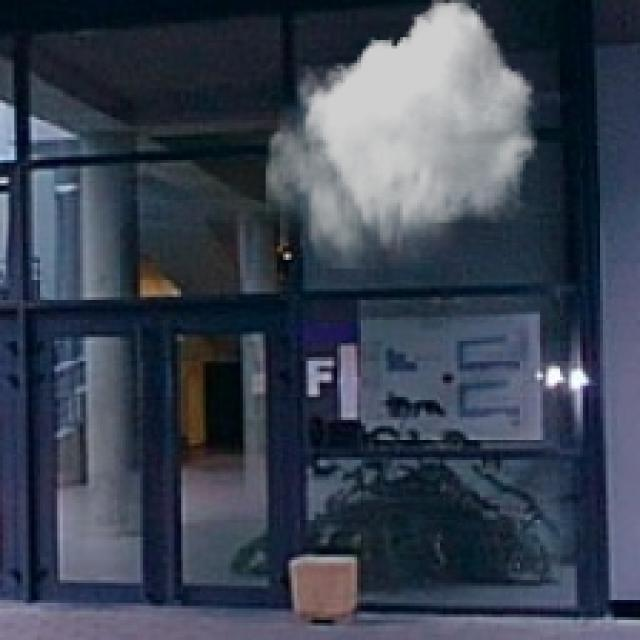smoke: (266, 0, 537, 269)
